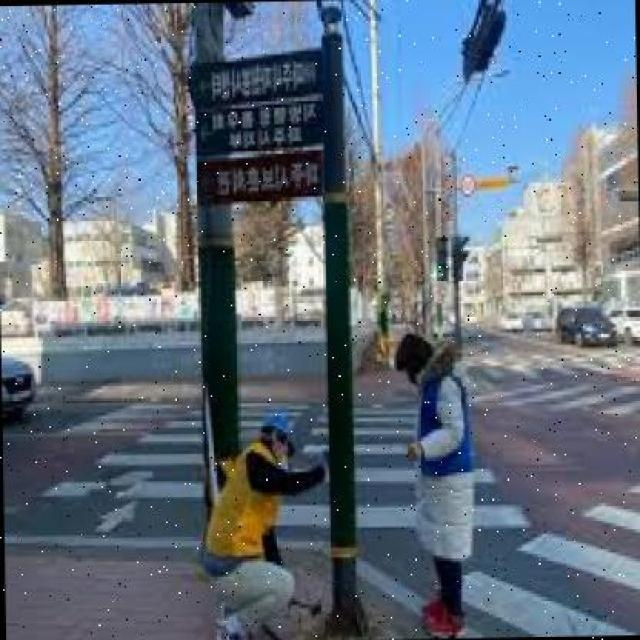obstacle: (200, 411, 334, 638), (391, 328, 478, 634)
